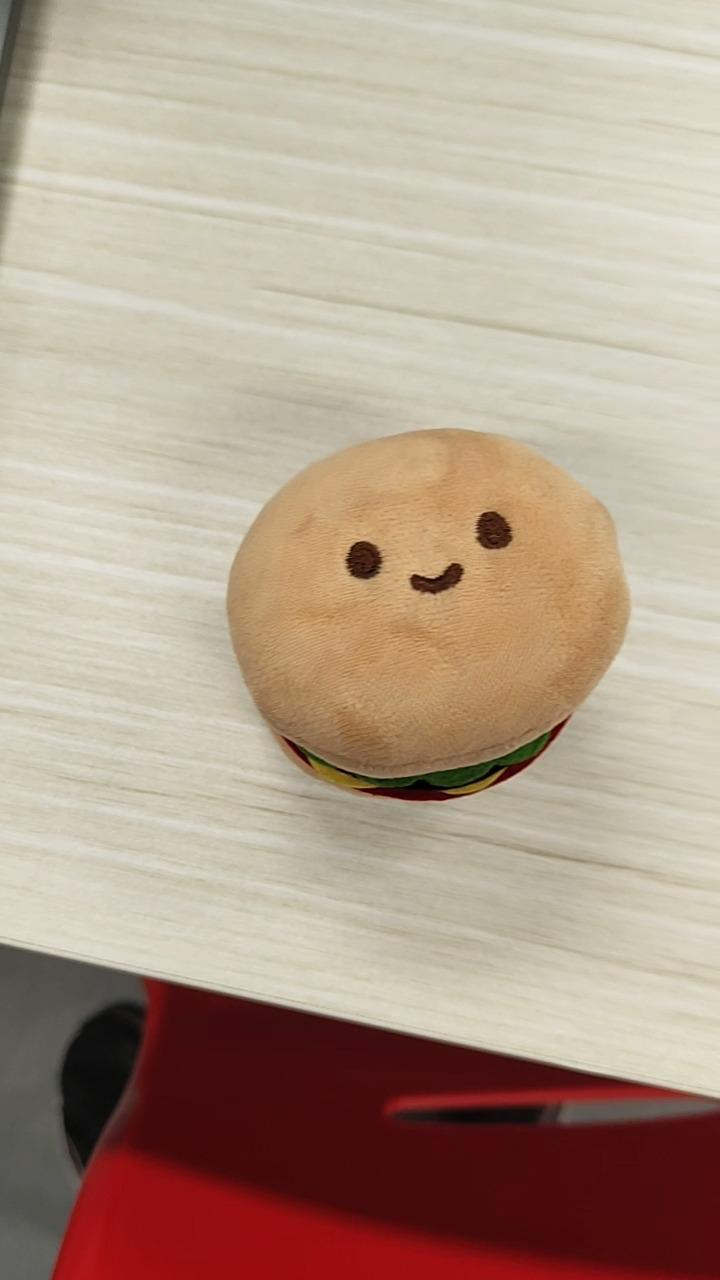hamburger: (224, 425, 631, 803)
